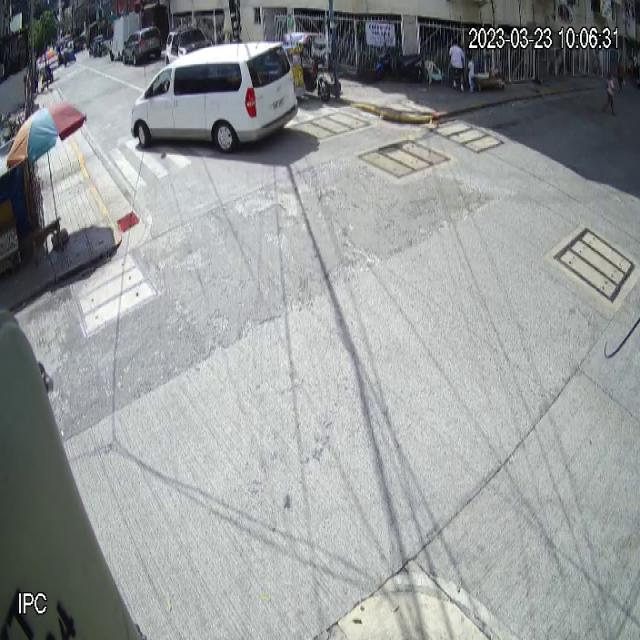Car: (134, 41, 296, 154)
